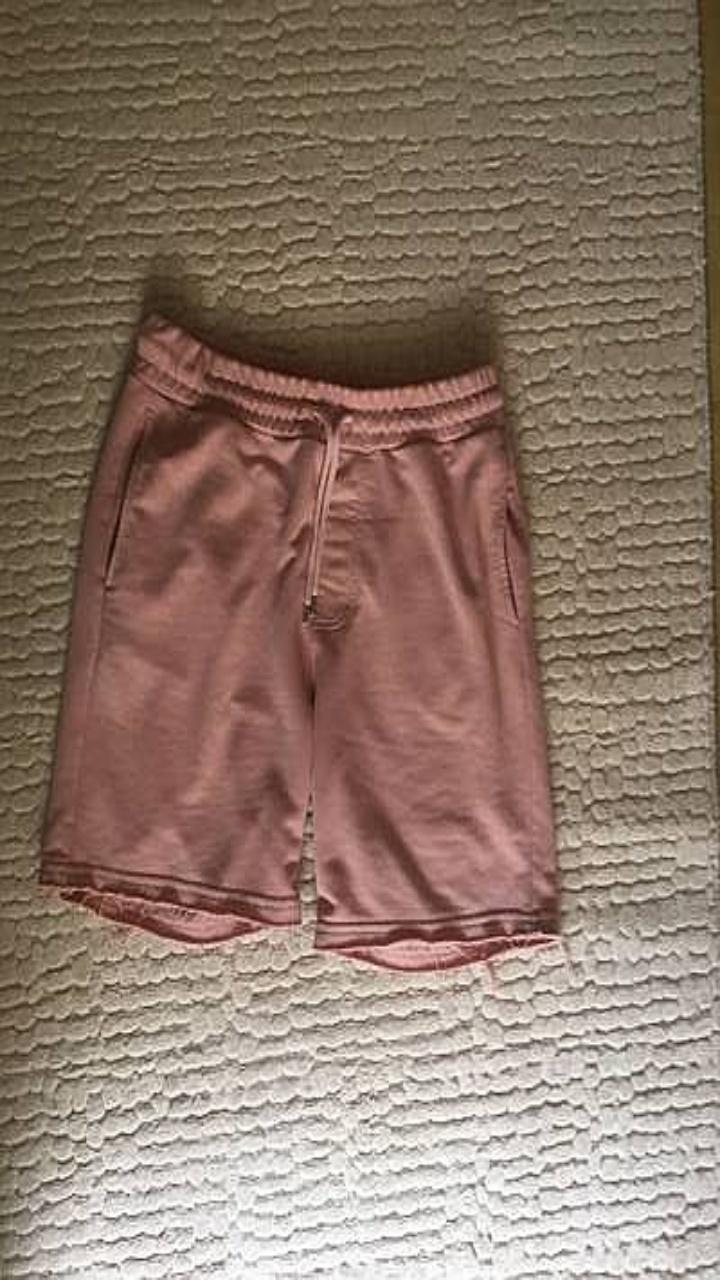Shorts: (40, 313, 558, 969)
